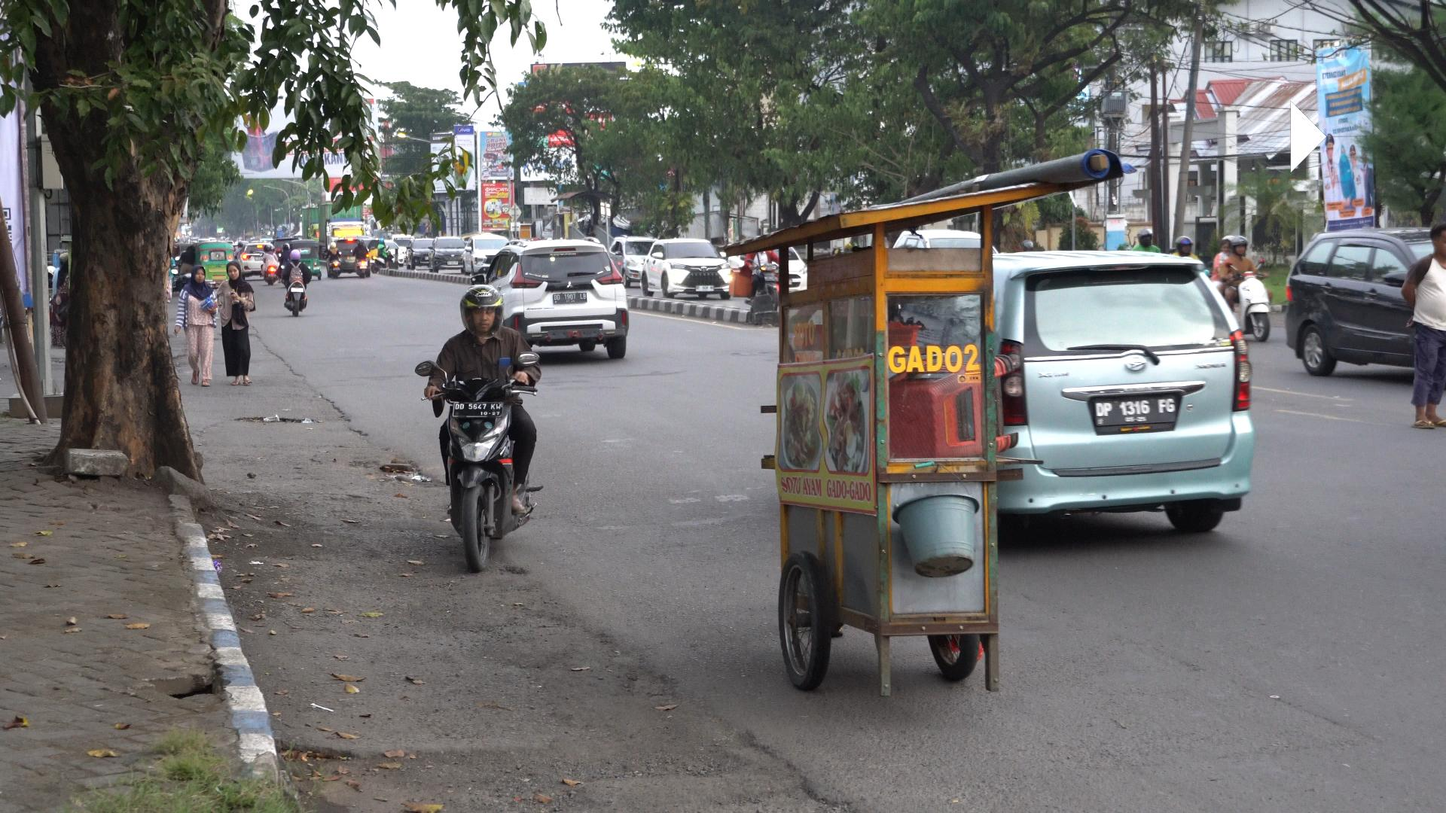number-plate: (454, 396, 504, 423)
